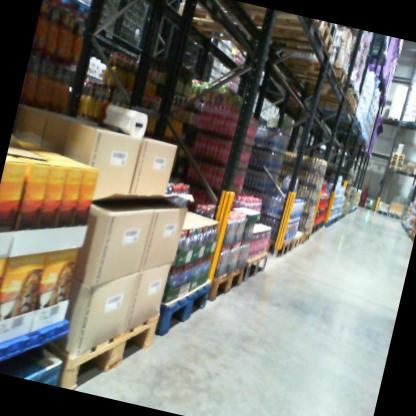pallet: (37, 291, 163, 406), (144, 266, 219, 349), (242, 7, 342, 60), (165, 3, 254, 55), (262, 51, 354, 91), (202, 255, 249, 314), (295, 89, 360, 117), (298, 78, 356, 108), (238, 246, 273, 295), (261, 232, 296, 262), (307, 20, 341, 44), (59, 0, 96, 22), (282, 227, 305, 249), (289, 225, 312, 247), (43, 0, 65, 8), (388, 210, 404, 221), (402, 167, 416, 177), (374, 208, 389, 217), (387, 166, 402, 173)
